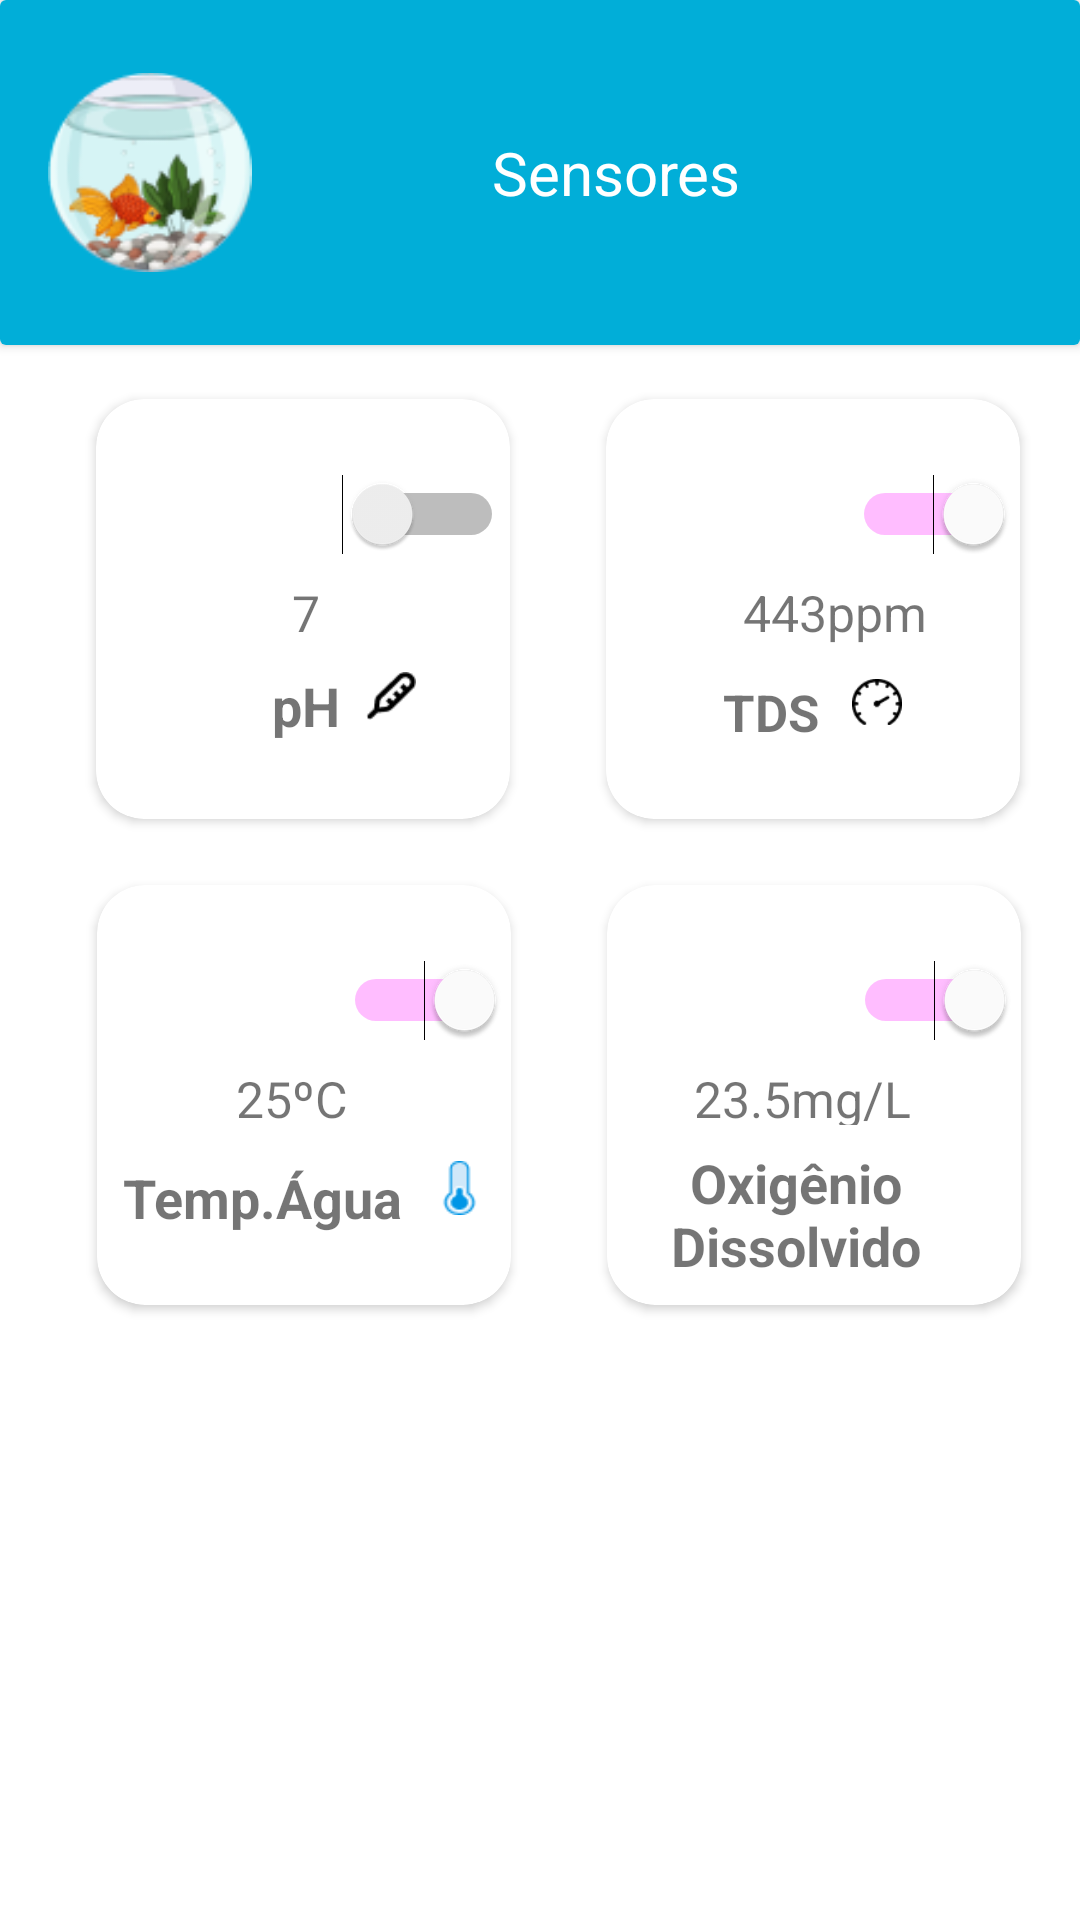

Icons on this 1080 × 1920 Android screen, each with its box as [x1=x1, y1=y1, x2=x2, y2=y2]:
thermometer: [x1=443, y1=1161, x2=476, y2=1215]
